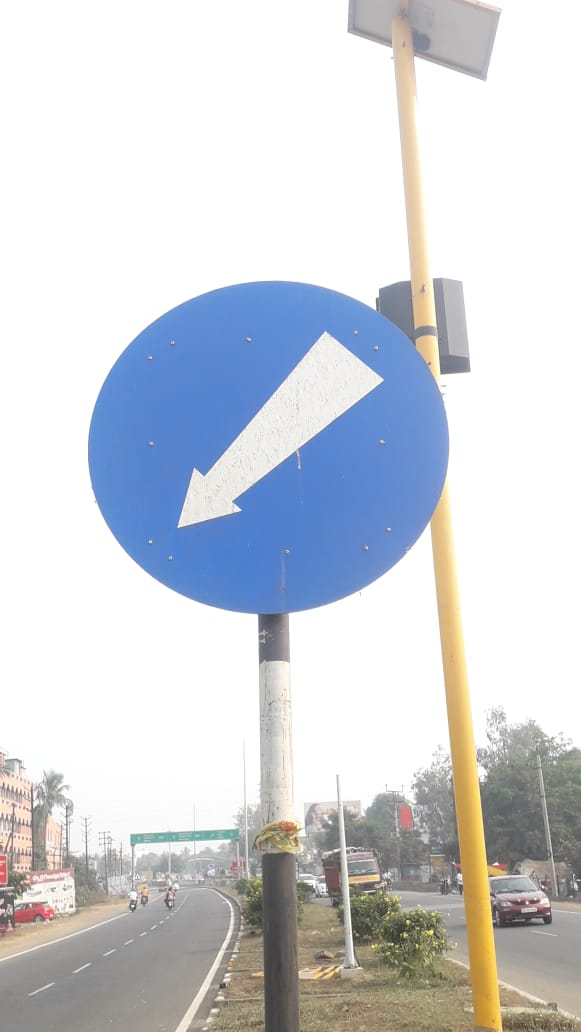go left: (83, 254, 487, 649)
